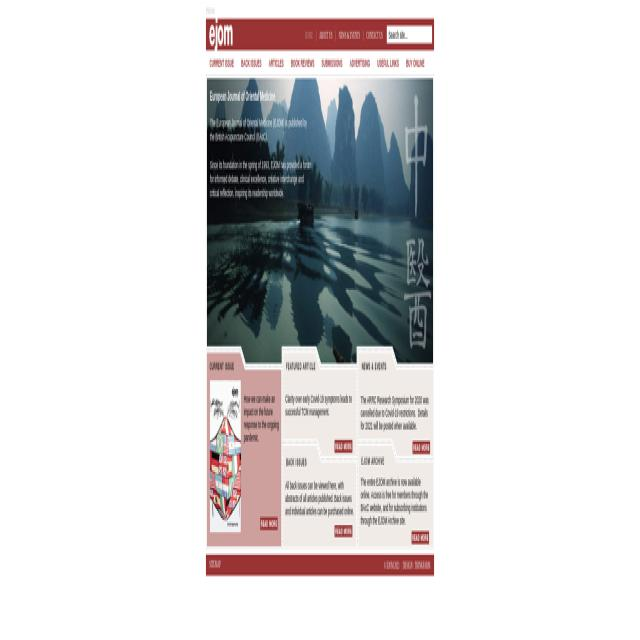button: (210, 380, 241, 532), (206, 19, 236, 52), (334, 440, 352, 453), (260, 517, 278, 530), (334, 525, 352, 538), (412, 531, 429, 544), (412, 442, 430, 454)
field: (387, 27, 432, 44)
